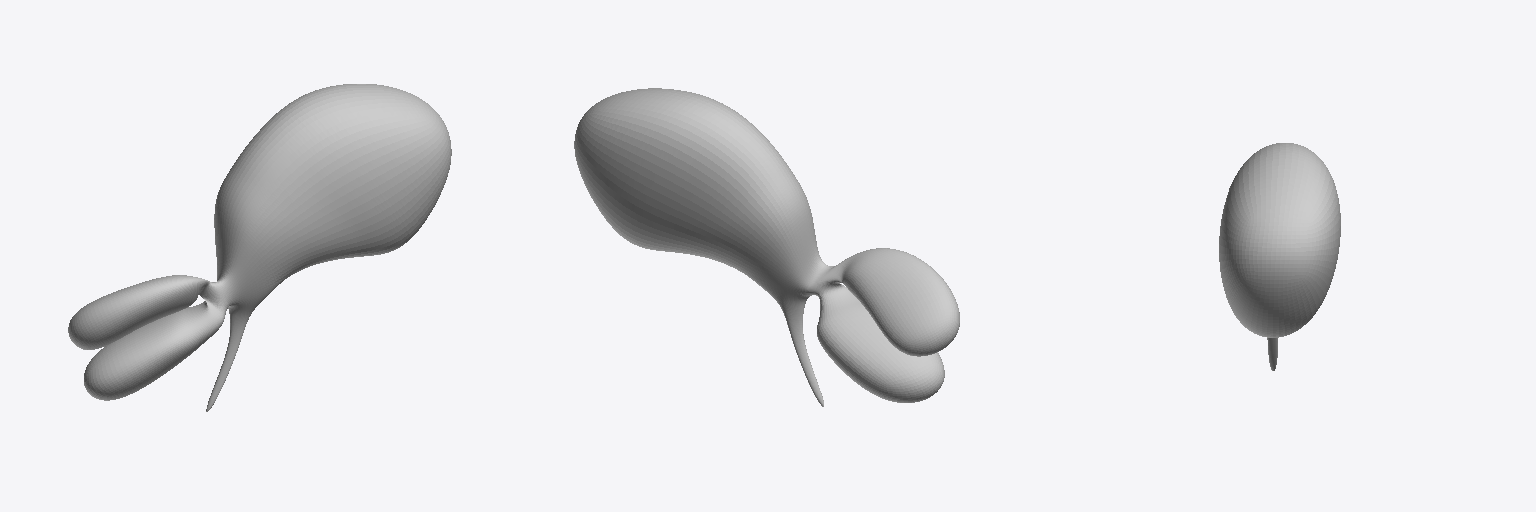
Rendered from copepod.obj.
3 views of the same model, side by side, from view 1: azimuth 30°, elevation 25°; view 2: azimuth 150°, elevation 25°; view 3: azimuth 270°, elevation 25° (orthographic).
Visible parts, largest first — view 1: Copepod; view 2: Copepod; view 3: Copepod.
Part boxes in pixels (left/top/right/bottom): Copepod: left=68, top=84, right=451, bottom=411; Copepod: left=574, top=88, right=959, bottom=406; Copepod: left=1219, top=143, right=1340, bottom=370.
Size of the model in its own units: 429 by 310 by 122.